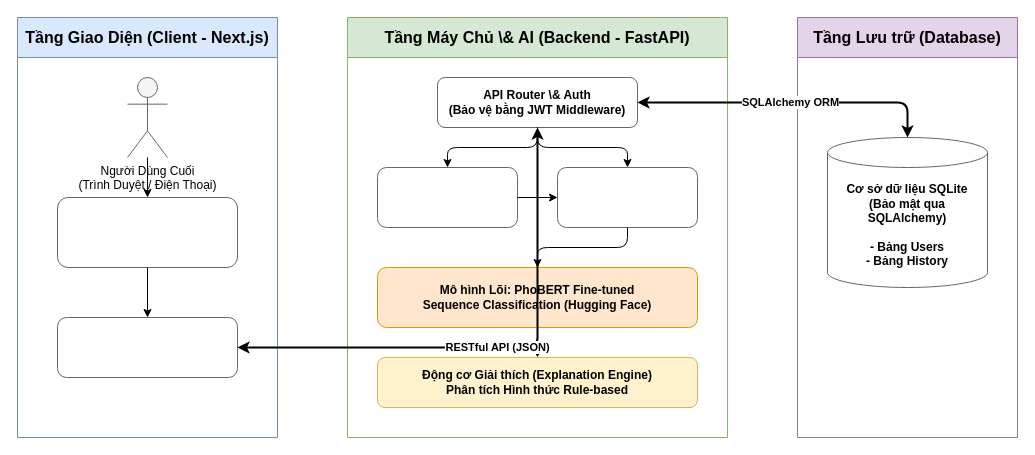
Image size: 1035x455. Some labels were removed from this diagram. The centre of each missing label's shape, as x and y in pixels:
"Axios HTTP Client (Gắn kèm JWT Token)" goes at (x=147, y=347).
"Giao diện Web (React) - Màn hình Kiểm chứng - Màn hình Lịch sử" goes at (x=147, y=232).
"Tiền xử lý Văn bản (PyVi Tokenizer)" goes at (x=627, y=197).
"Web Crawler (BeautifulSoup 4)" goes at (x=447, y=197).
